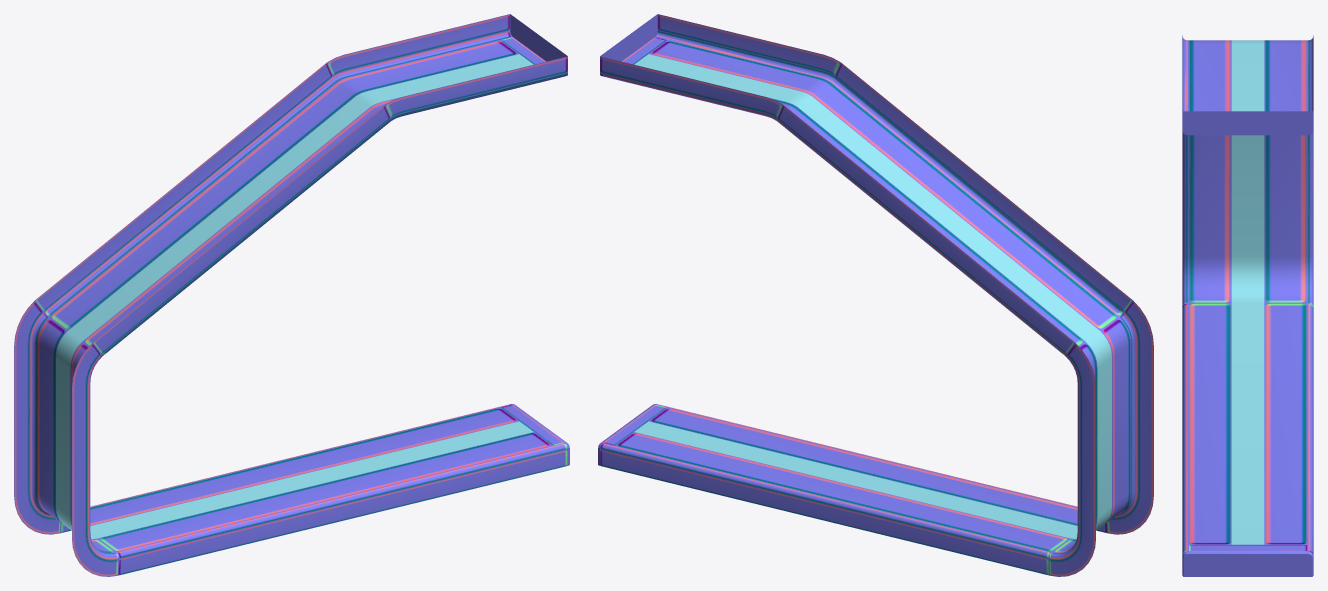
The model's file is Arch_01.FBX.
3 renders of one model, left to right at view 1: azimuth 30°, elevation 25°; view 2: azimuth 150°, elevation 25°; view 3: azimuth 270°, elevation 25°, orthographic. The views are drawn at different scales.
Parts seen in each view (by area): view 1: Arch_01, Neon_01; view 2: Arch_01, Neon_01; view 3: Arch_01, Neon_01.
Boxes of the visible parts, x1,y1,x2,y2 form: Arch_01: [14, 14, 569, 576]; Neon_01: [56, 54, 533, 539]; Arch_01: [598, 14, 1153, 576]; Neon_01: [634, 54, 1111, 539]; Arch_01: [1182, 35, 1313, 576]; Neon_01: [1231, 40, 1264, 544].
Size of the model in its own units: 9.96 by 7.82 by 2.
2 materials, 1 textured.
